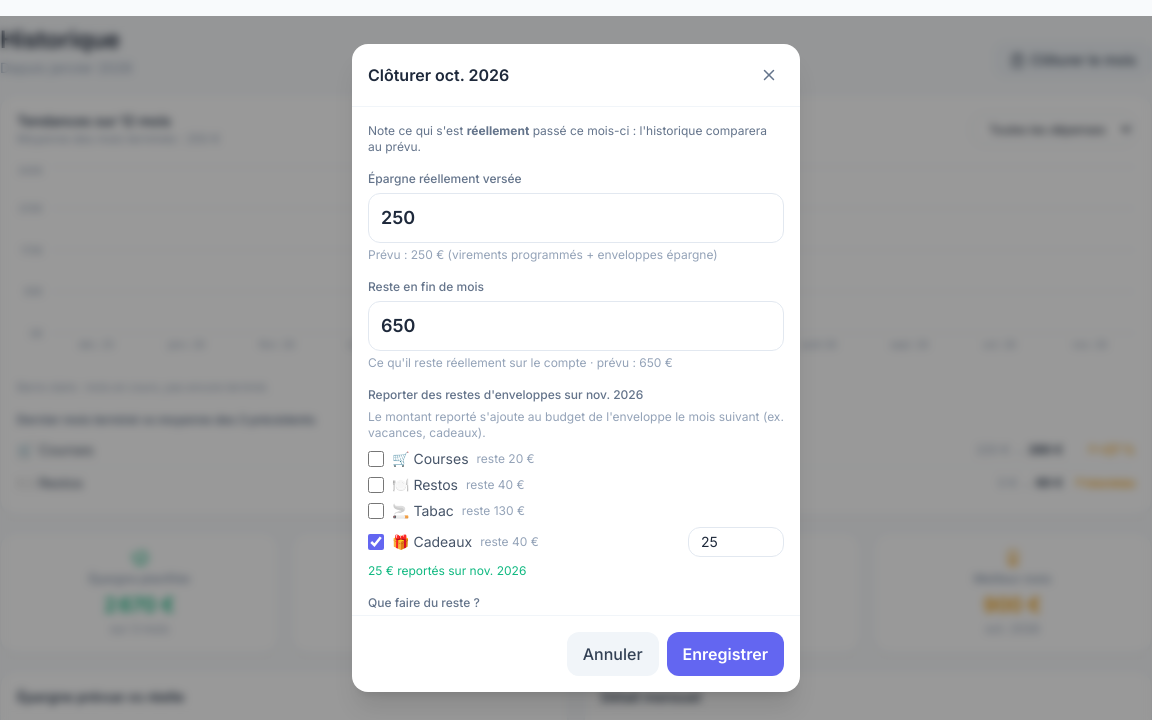
Historique › clôture ouverte depuis le lien de l'e-mail : report d'enveloppe et reste versé sur un objectif
This screenshot has width=1152, height=720.
Later steps or results of the test are not shown.
Expected: the heading "Clôturer oct. 2026" is shown, [368,63,509,87]
Click the checkbox labelled "🛒 Courses reste 20 €" at (376, 459), box [368,451,384,467]
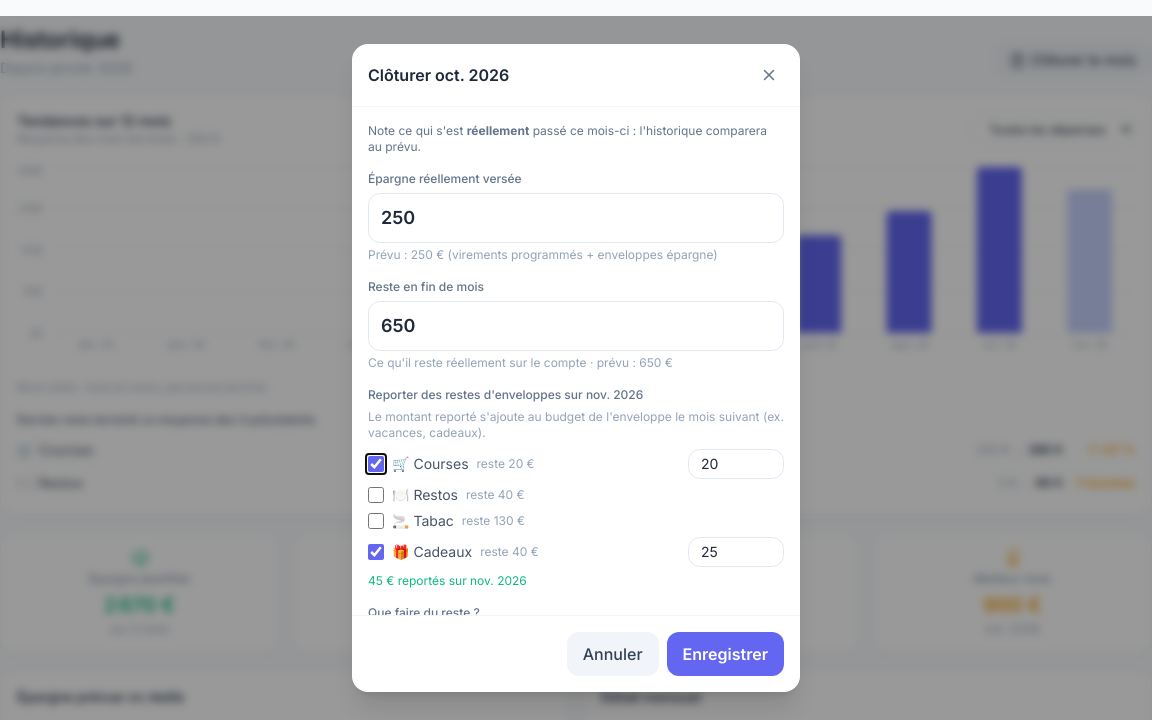
Expected: the text "45 € reportés sur nov. 2026" is shown, [368,573,527,588]
Clear the 3rd number field at (736, 464), box [688,449,784,479]
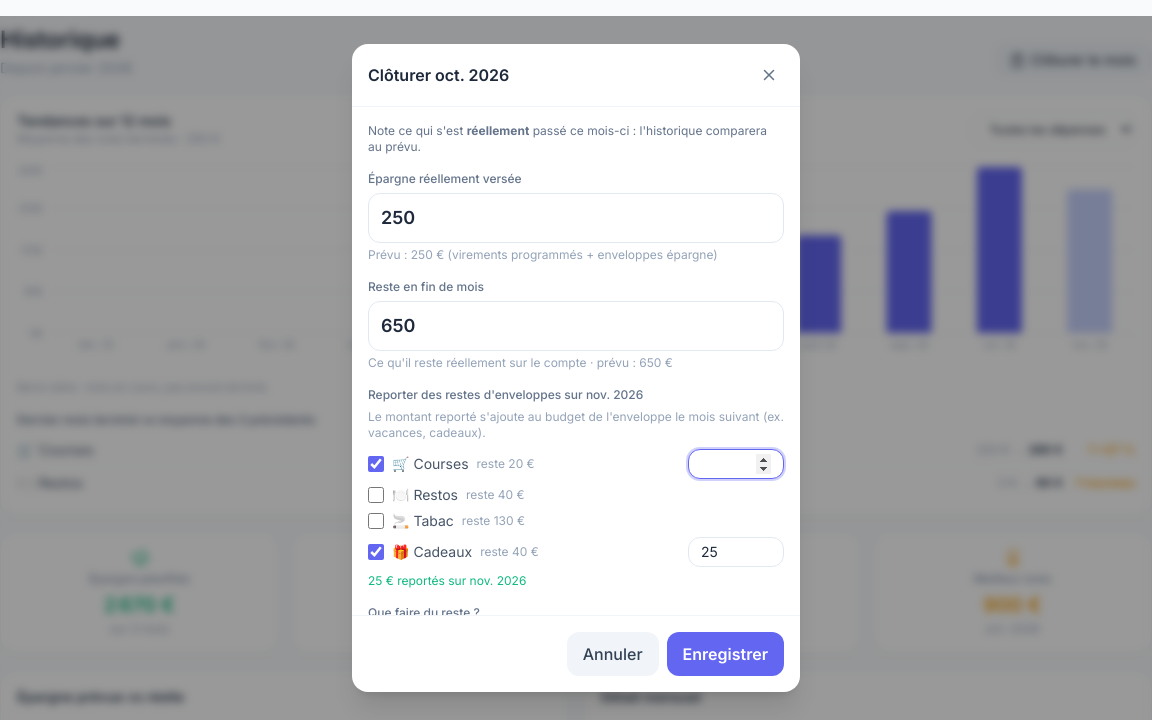
Type "15" into the 3rd number field at (736, 464), box [688,449,784,479]
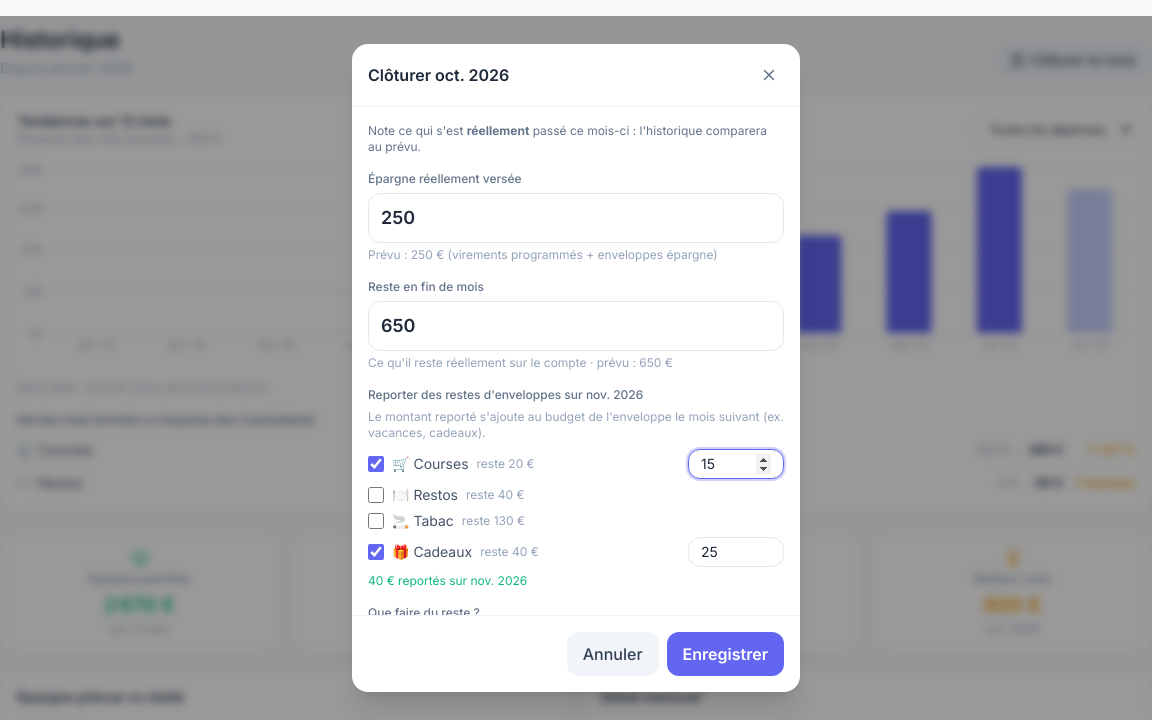
Result: the text "40 € reportés sur nov. 2026" is shown at [368,573,527,588]
